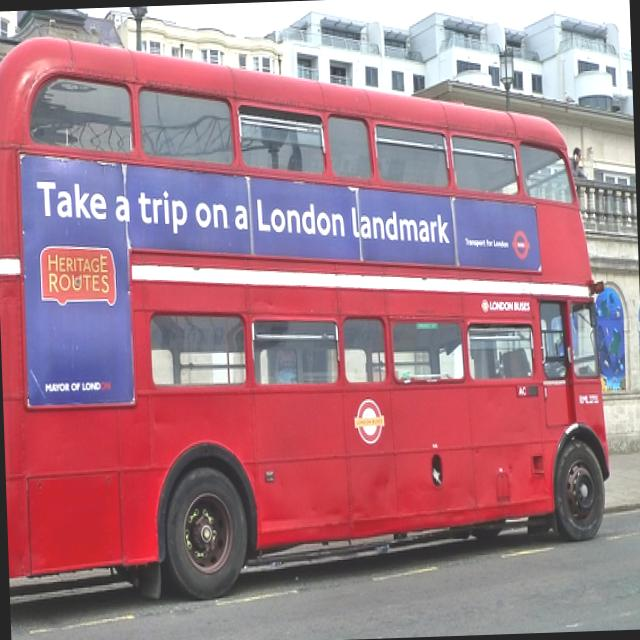Vehicle: (0, 12, 614, 610)
